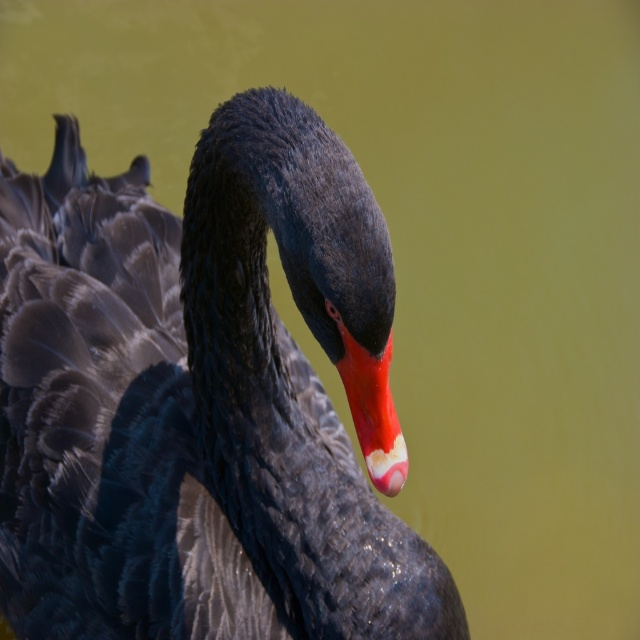Swan: (0, 84, 471, 640)
